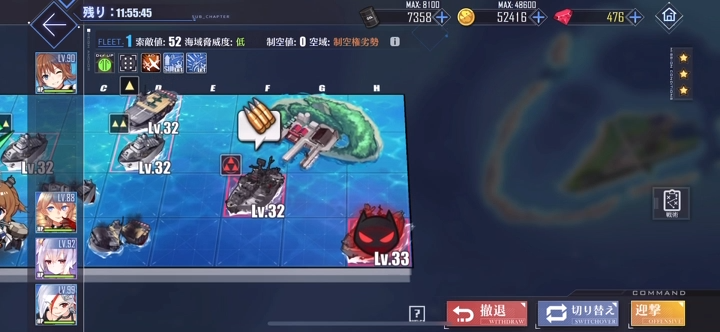boss: (342, 200, 413, 271)
lv3: (218, 149, 286, 209)
